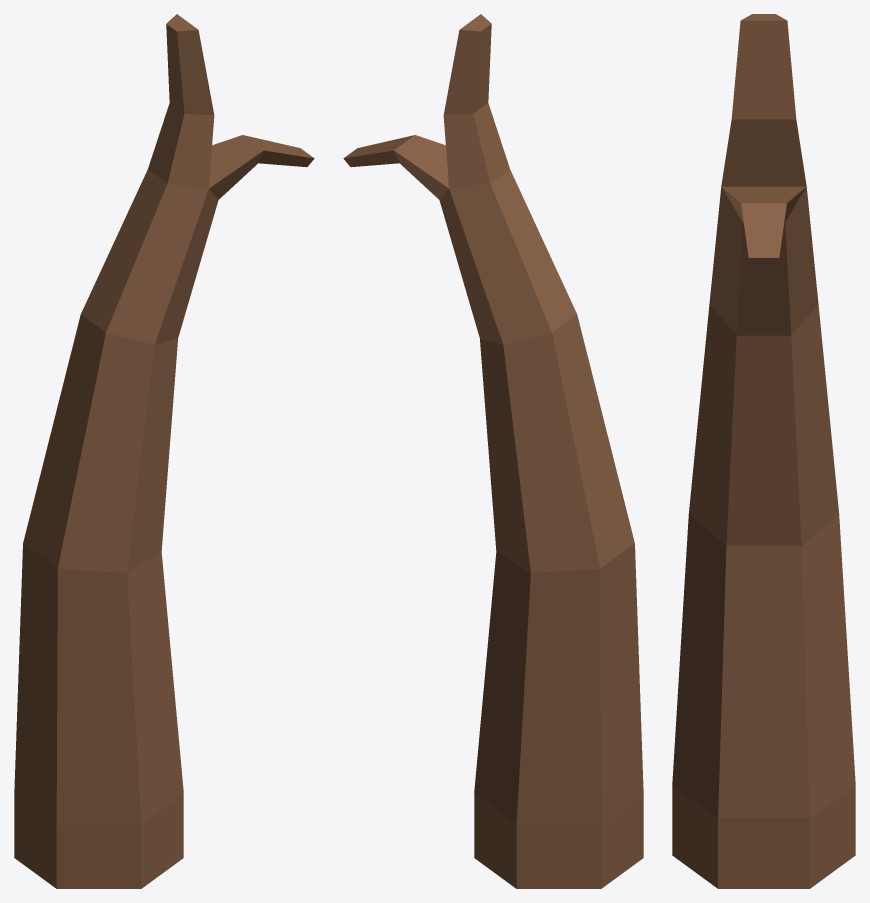
The model's file is DeadWood_single.fbx.
The picture shows the model from 3 angles, left to right: view 1: azimuth 30°, elevation 25°; view 2: azimuth 150°, elevation 25°; view 3: azimuth 270°, elevation 25°; orthographic projection. The views are drawn at different scales.
Visible parts, largest first — view 1: 柱体.043; view 2: 柱体.043; view 3: 柱体.043.
Part boxes in pixels (bbox=[...]): 柱体.043: bbox=[14, 14, 314, 888]; 柱体.043: bbox=[343, 14, 643, 888]; 柱体.043: bbox=[672, 14, 855, 888].
Size of the model in its own units: 70.68 by 38.12 by 202.
